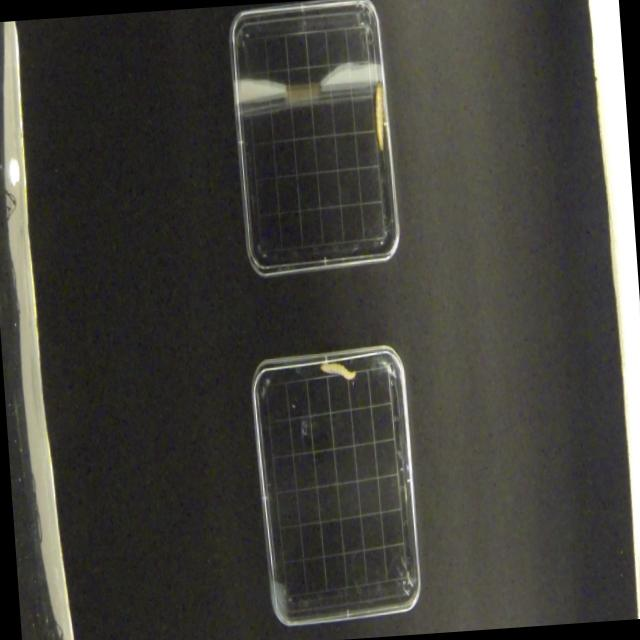larva: (369, 85, 388, 151), (319, 358, 357, 384)
